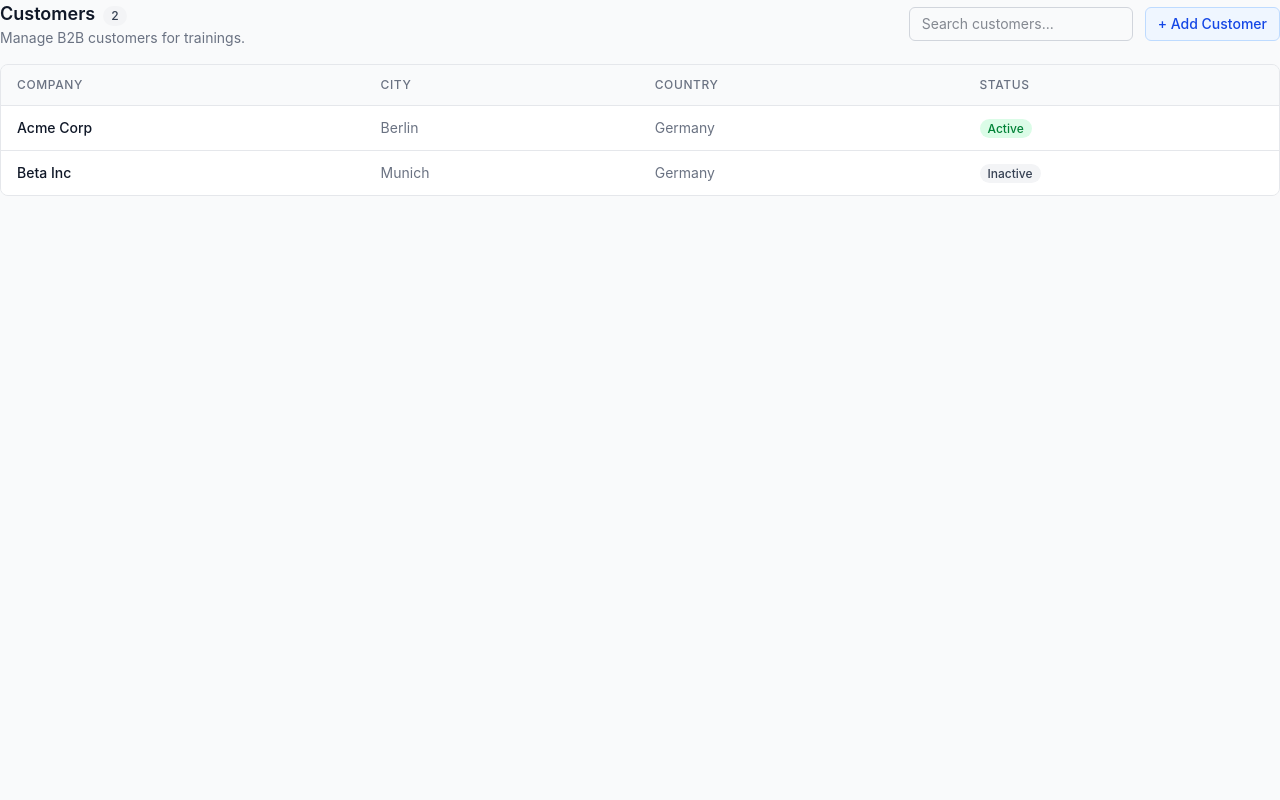
Test: CustomersTab › create form shows on "+ Add Customer" button click
Click the button "+ Add Customer" at coordinates (1212, 24), box [1145,7,1279,41]
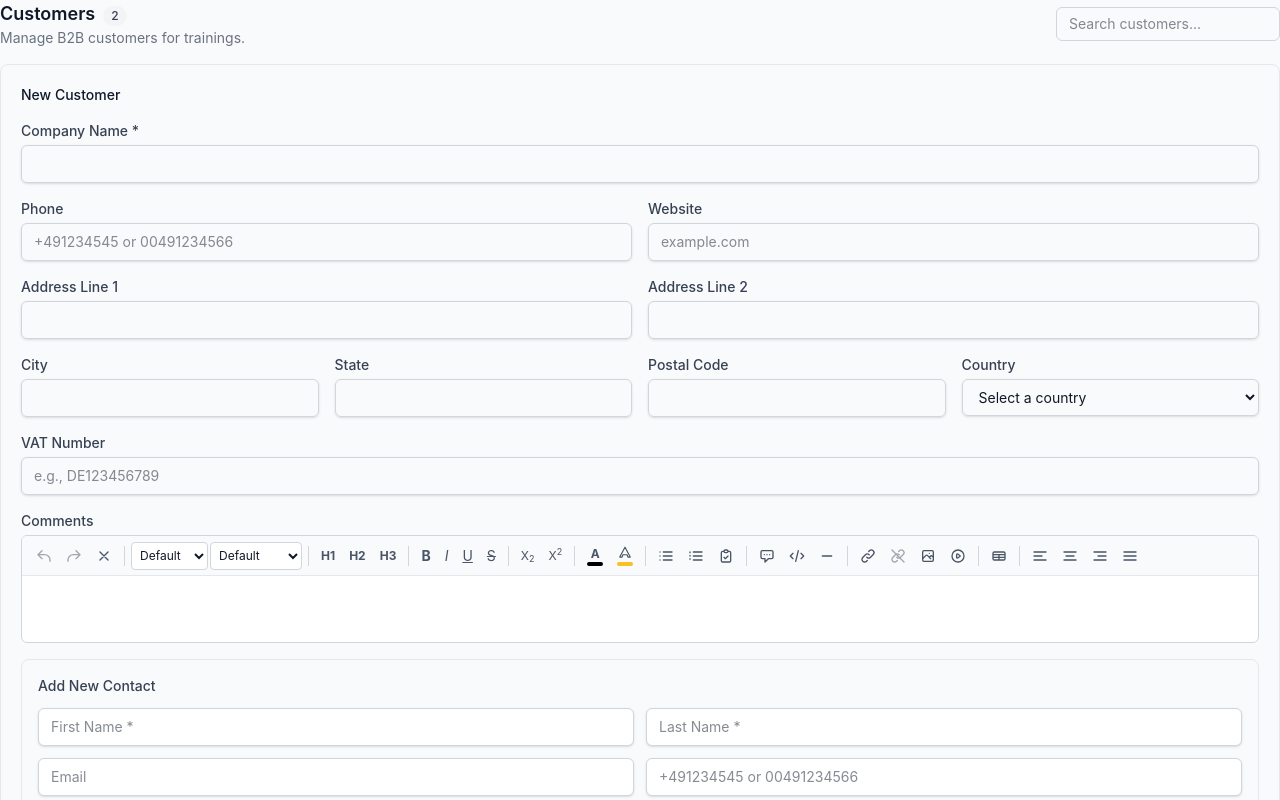
Check: the heading "New Customer" is shown, box [21,86,120,103]
Check: the text "Company Name *" is shown, box [21,122,139,139]
